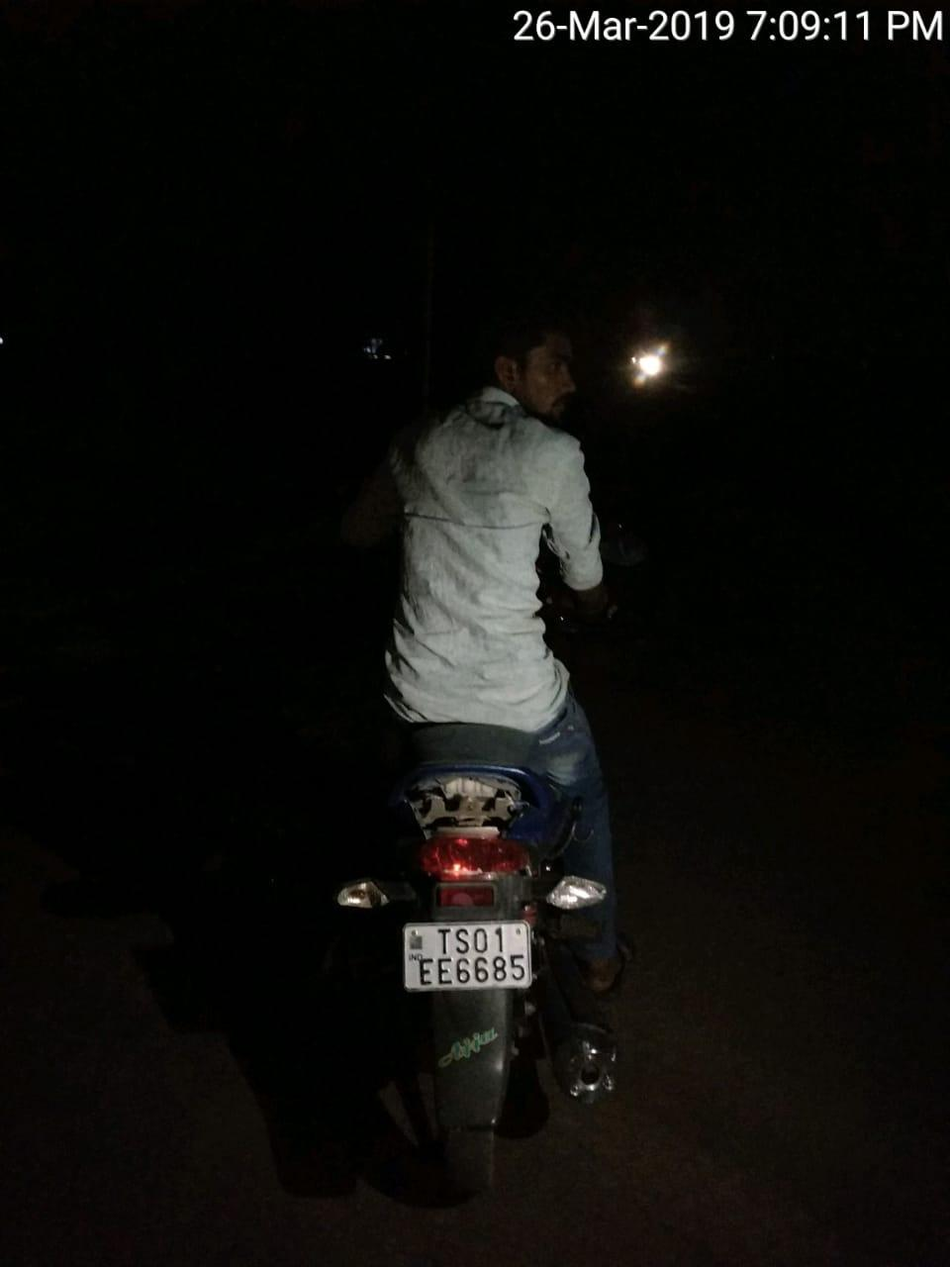plate: (384, 897, 559, 1011)
